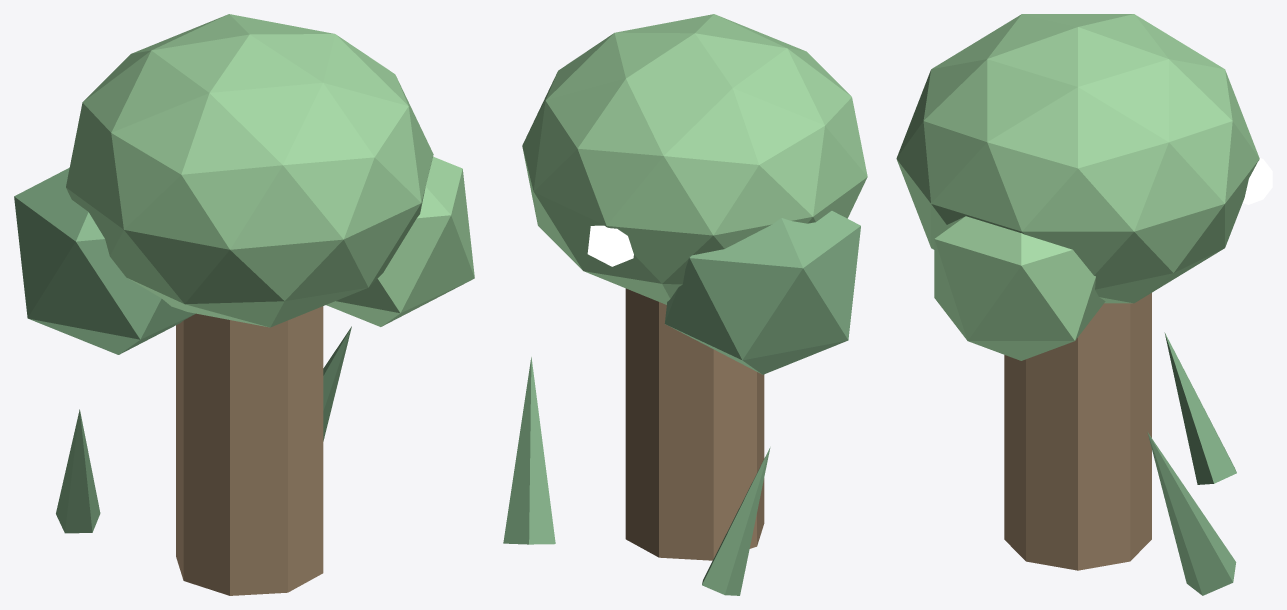
The model's file is turret_grove.glb.
The picture shows the model from 3 angles, left to right: view 1: azimuth 30°, elevation 25°; view 2: azimuth 150°, elevation 25°; view 3: azimuth 270°, elevation 25°; orthographic projection. The views are drawn at different scales.
Parts seen in each view (by area): view 1: turret_grove; view 2: turret_grove; view 3: turret_grove.
Boxes of the visible parts, box(x1,y1,x2,y2) form: turret_grove: box(14, 14, 474, 595); turret_grove: box(503, 14, 867, 595); turret_grove: box(896, 14, 1272, 595).
Size of the model in its own units: 0.7399 by 0.996 by 0.6625.
